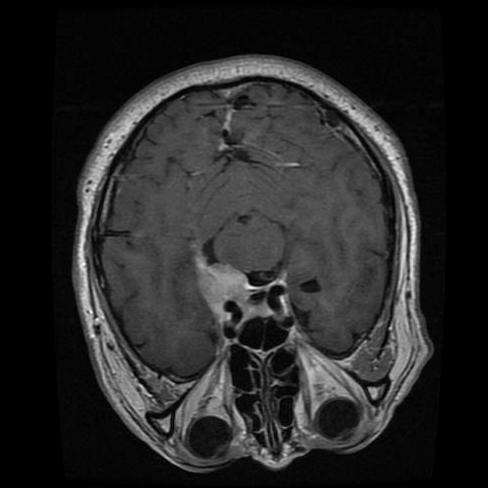Tumour-Pituitary: (195, 249, 303, 333)
